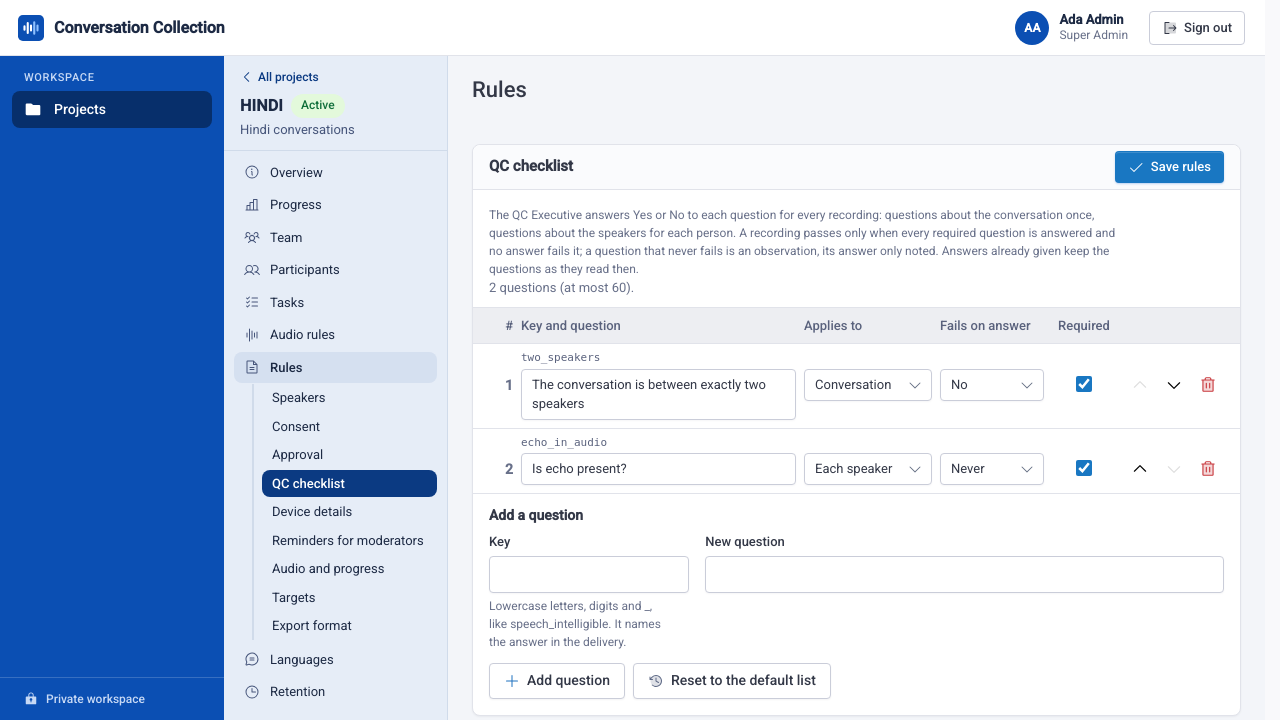
the QC checklist's questions (D-158) › adds a new question with Enter in its own box, under its own title
The width and height of the screenshot is (1280, 720).
Expected: the heading "Add a question" is shown, [473, 493, 1240, 524]
Type "music" into the field labelled "Key" at coordinates (589, 574), box [489, 556, 689, 593]
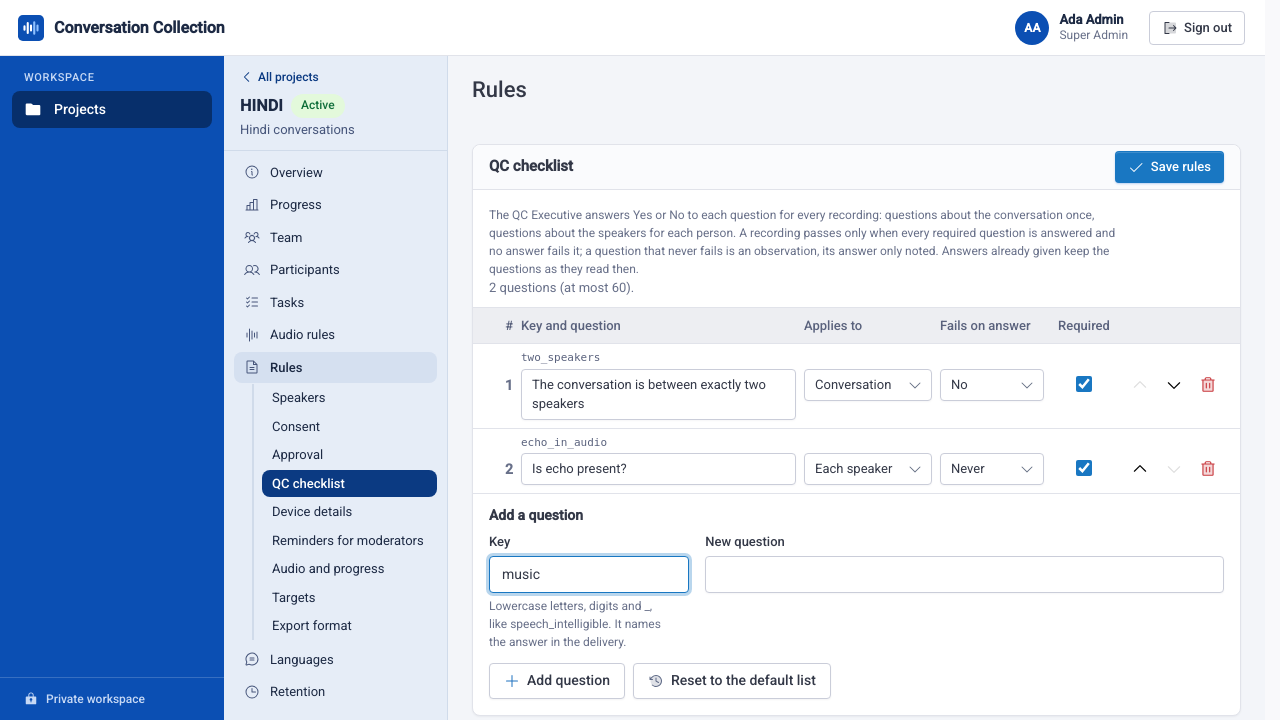
Type "Is music" into the text box labelled "New question" at coordinates (965, 574), box [705, 556, 1224, 593]
Then press Enter
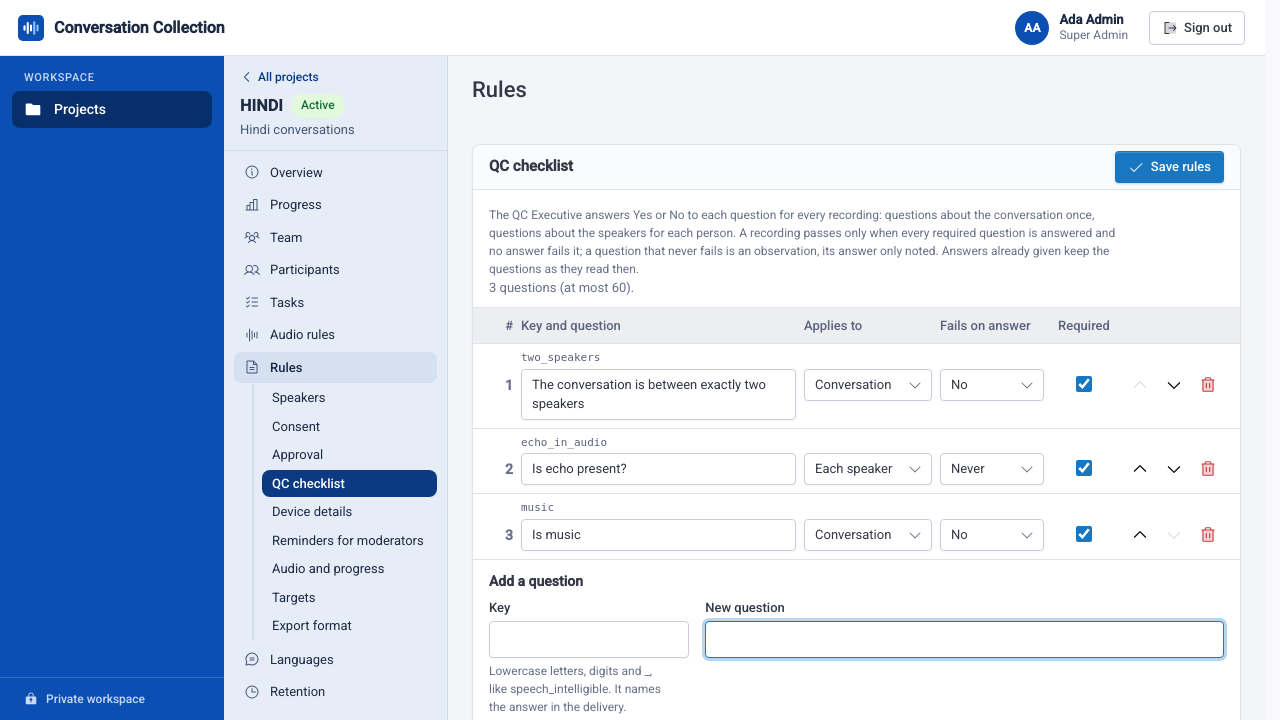
Expected: the text box labelled "New question" is empty, [705, 621, 1224, 658]
Expected: the text box named "Question" below "music" holds "Is music", [521, 519, 796, 551]
